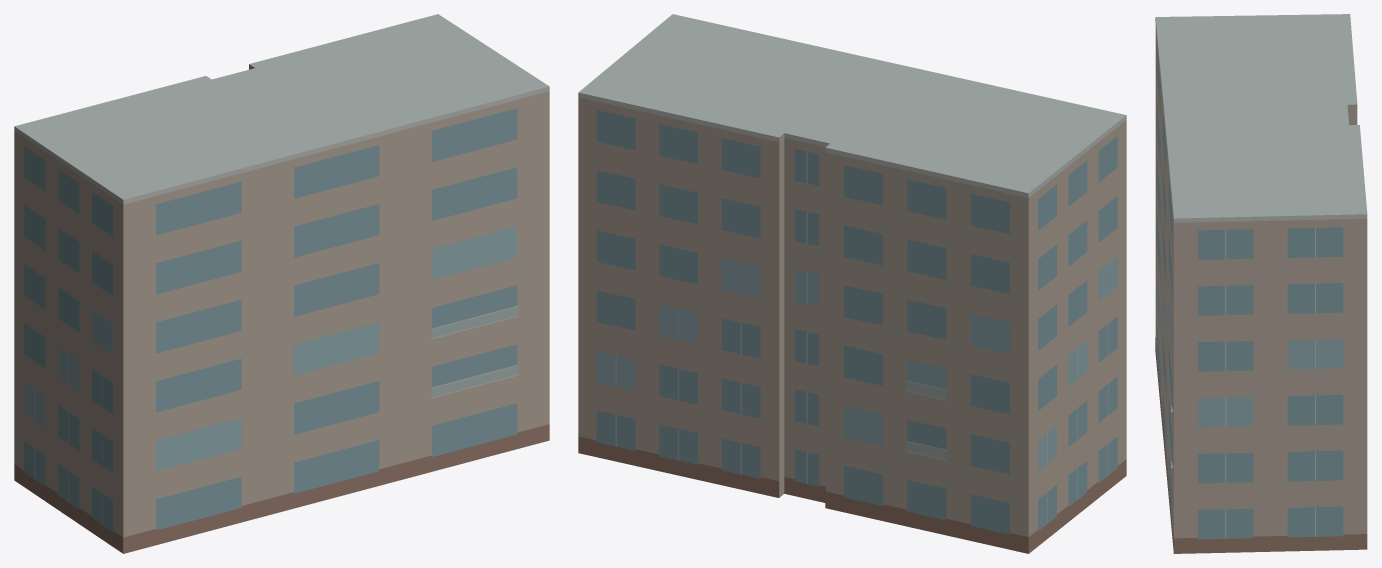
File: survey-upis-32695067.glb
3 views of the same model, side by side, from view 1: azimuth 30°, elevation 25°; view 2: azimuth 150°, elevation 25°; view 3: azimuth 270°, elevation 25° (orthographic). The views are drawn at different scales.
Visible parts, largest first — view 1: survey-upis-32695067.tmp; view 2: survey-upis-32695067.tmp; view 3: survey-upis-32695067.tmp.
Boxes of the visible parts, x1,y1,x2,y2 form: survey-upis-32695067.tmp: (14,14,549,553); survey-upis-32695067.tmp: (578,14,1126,553); survey-upis-32695067.tmp: (1155,14,1367,553).
Bounding box in the file's own units: 24.21 × 18.5 × 10.6.
